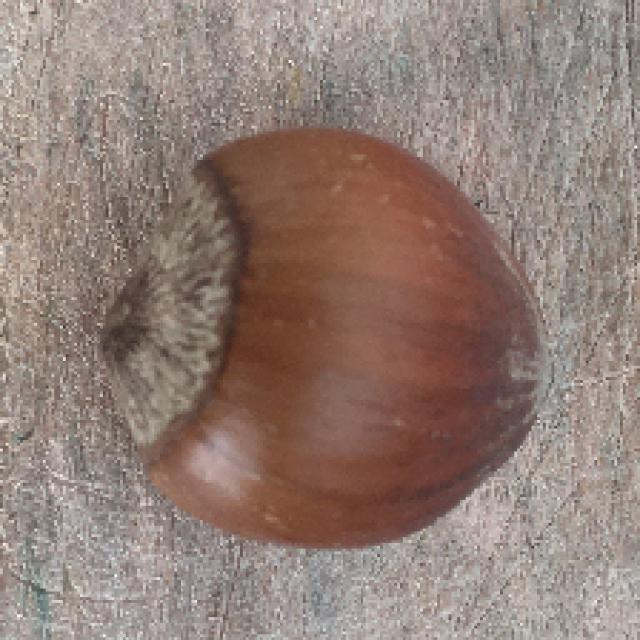DamagedHazelnut: (101, 129, 558, 556)
